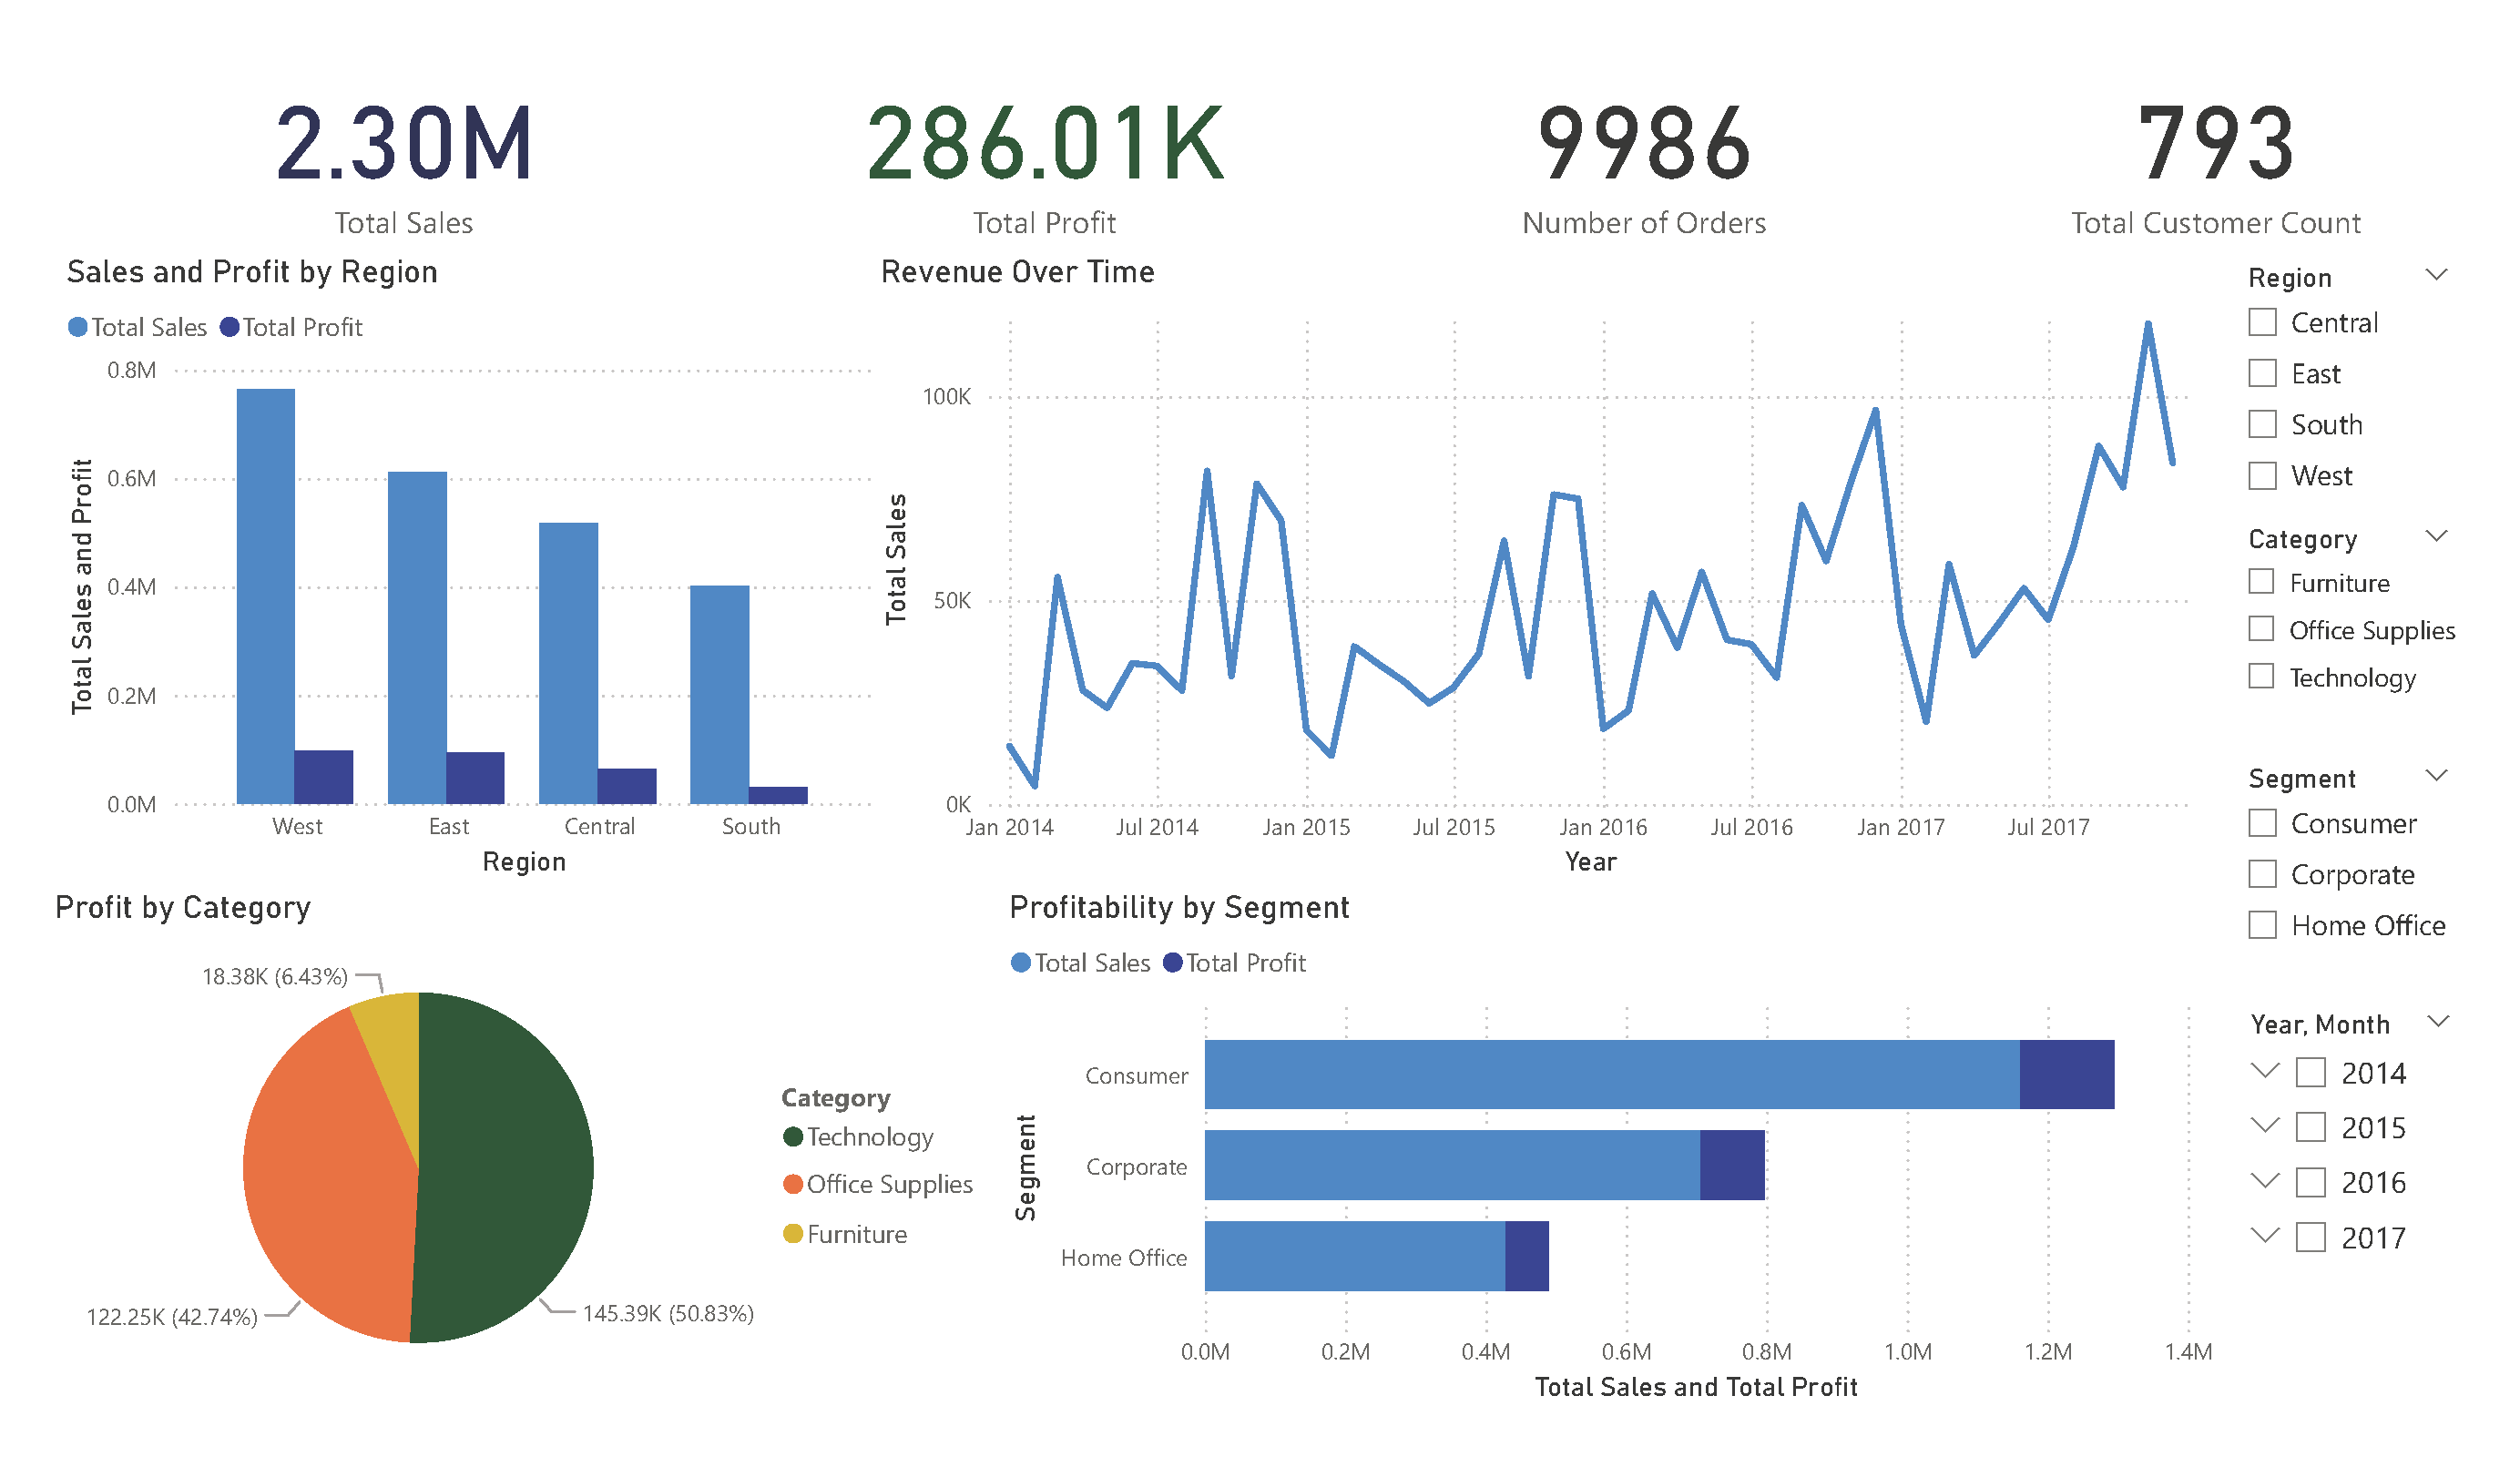

The dashboard page shown, as its layout file describes it:
{"tool":"powerbi","page":{"name":"Overview Analytics","canvas":[1280,720],"ordinal":0},"visuals":[{"type":"clusteredColumnChart","title":"Sales and Profit by Region","fields":{"Category":["superstore customers.Region"],"Y":["Sum(superstore orders.Sales)","Sum(superstore orders.Profit)"]},"box":[6.3,109.3,435.2,334],"z":0},{"type":"lineChart","title":"Revenue Over Time","fields":{"Category":["superstore orders.Order_Date.Variation.Date Hierarchy.Year","superstore orders.Order_Date.Variation.Date Hierarchy.Month"],"Y":["Sum(superstore orders.Sales)"]},"box":[435.2,109.3,712.8,334],"z":1000},{"type":"pieChart","title":"Profit by Category","fields":{"Category":["superstore products.Category"],"Y":["Sum(superstore orders.Profit)"]},"box":[0,443.5,502.9,276.2],"z":2000},{"type":"barChart","title":"Profitability by Segment","fields":{"Category":["superstore customers.Segment"],"Y":["Sum(superstore orders.Sales)","Sum(superstore orders.Profit)"]},"box":[502.9,443.5,644.9,276.2],"z":3000},{"type":"slicer","fields":{"Values":["superstore customers.Region"]},"box":[1148.1,109.3,130.4,137.7],"z":4000},{"type":"slicer","fields":{"Values":["superstore products.Category"]},"box":[1148.1,247.2,130.7,126.3],"z":5000},{"type":"slicer","fields":{"Values":["superstore customers.Segment"]},"box":[1148.1,373.4,130.7,129.9],"z":6000},{"type":"slicer","fields":{"Values":["superstore orders.Order_Date.Variation.Date Hierarchy.Year","superstore orders.Order_Date.Variation.Date Hierarchy.Month"]},"box":[1148.6,503.2,131.4,217.1],"z":7000},{"type":"card","fields":{"Values":["Sum(superstore orders.Sales)"]},"box":[0,0,377.9,109.3],"z":8000},{"type":"card","fields":{"Values":["Sum(superstore orders.Profit)"]},"box":[377,0,299.1,109.3],"z":9000},{"type":"card","fields":{"Values":["superstore orders.Number of Orders"]},"box":[676.1,0,333.1,109.3],"z":10000},{"type":"card","fields":{"Values":["superstore customers.Customer_Count"]},"box":[1009.3,0,269.6,109.3],"z":11000}]}

Visuals, with their boxes in screenshot pixels (x1, y1, x2, y2):
"Sales and Profit by Region" clusteredColumnChart: [57,253,883,887]
"Revenue Over Time" lineChart: [872,253,2224,887]
"Profit by Category" pieChart: [46,887,1000,1411]
"Profitability by Segment" barChart: [1000,887,2224,1411]
slicer - superstore customers.Region: [2224,253,2472,515]
slicer - superstore products.Category: [2224,515,2472,754]
slicer - superstore customers.Segment: [2224,754,2472,1001]
slicer - superstore orders.Order_Date.Variation.Date Hierarchy.Year x superstore orders.Order_Date.Variation.Date Hierarchy.Month: [2225,1000,2474,1411]
card - Sum(superstore orders.Sales): [46,46,762,253]
card - Sum(superstore orders.Profit): [761,46,1329,253]
card - superstore orders.Number of Orders: [1329,46,1961,253]
card - superstore customers.Customer_Count: [1961,46,2473,253]
